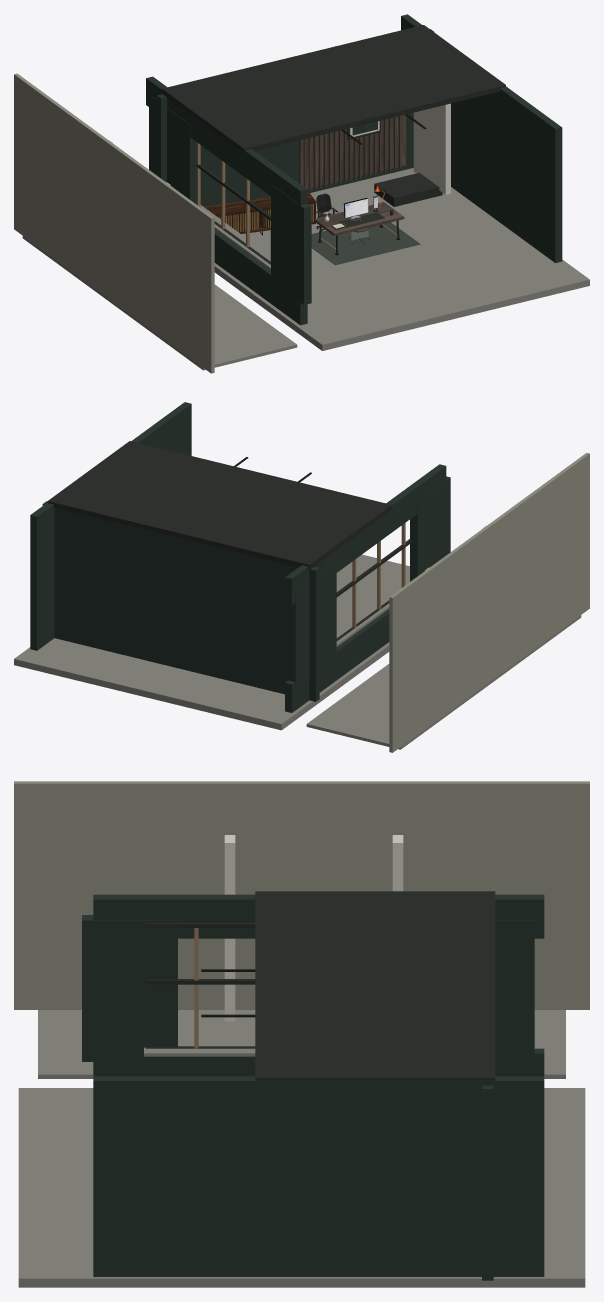
The model's file is studio.glb.
3 views of the same model, one above another, from view 1: azimuth 30°, elevation 25°; view 2: azimuth 150°, elevation 25°; view 3: azimuth 270°, elevation 25° (orthographic). The views are drawn at different scales.
Parts seen in each view (by area): view 1: Exterior courtyard facade, Stone floor | satin honed, Floating acoustical soffit, Right side architectural return, Deep rear wall | center, Exterior warm ground, Left wall front pier, Left wall top pier, Architectural walnut inset, Right return architrave, Left wall back pier, Left window lower rail (+6 smaller); view 2: Deep rear wall | center, Exterior courtyard facade, Floating acoustical soffit, Stone floor | satin honed, Right side architectural return, Exterior warm ground, Left wall back pier, Left wall top pier, Left wall front pier, Left window lower rail, Limestone sill; view 3: Right side architectural return, Exterior courtyard facade, Floating acoustical soffit, Stone floor | satin honed, Left wall front pier, Exterior warm ground, Left wall top pier, Left wall back pier, Left window lower rail, Deep rear wall | center, Exterior structural fin.001, Limestone sill (+2 smaller).
Boxes of the visible parts, x1,y1,x2,y2 form: Exterior courtyard facade: [14, 73, 214, 373]; Stone floor | satin honed: [214, 168, 589, 350]; Floating acoustical soffit: [162, 25, 505, 153]; Right side architectural return: [401, 14, 562, 262]; Deep rear wall | center: [157, 29, 433, 206]; Exterior warm ground: [22, 236, 297, 370]; Left wall front pier: [271, 184, 311, 304]; Left wall top pier: [146, 76, 307, 205]; Architectural walnut inset: [299, 115, 405, 189]; Right return architrave: [413, 103, 450, 194]; Left wall back pier: [149, 95, 196, 204]; Left window lower rail: [214, 229, 307, 325]; Deep rear wall | center: [42, 501, 319, 701]; Exterior courtyard facade: [389, 453, 589, 752]; Floating acoustical soffit: [47, 441, 391, 569]; Stone floor | satin honed: [14, 554, 409, 730]; Right side architectural return: [30, 402, 191, 650]; Exterior warm ground: [306, 615, 581, 749]; Left wall back pier: [288, 560, 336, 687]; Left wall top pier: [285, 464, 446, 605]; Left wall front pier: [410, 476, 450, 581]; Left window lower rail: [285, 609, 389, 712]; Limestone sill: [336, 579, 409, 646]; Right side architectural return: [93, 1076, 544, 1276]; Exterior courtyard facade: [14, 781, 589, 1009]; Floating acoustical soffit: [255, 891, 495, 1080]; Stone floor | satin honed: [18, 1088, 585, 1287]; Left wall front pier: [82, 915, 177, 1061]; Exterior warm ground: [38, 1010, 565, 1078]; Left wall top pier: [93, 894, 544, 938]; Left wall back pier: [495, 920, 534, 1061]; Left window lower rail: [93, 1048, 544, 1076]; Deep rear wall | center: [482, 1085, 493, 1280]; Exterior structural fin.001: [224, 835, 235, 1021]; Limestone sill: [144, 1044, 255, 1056].
Size of what is drawn, in the model's own units: 13.46 by 5.41 by 12.
Materials: 26 (10 with a texture image).
